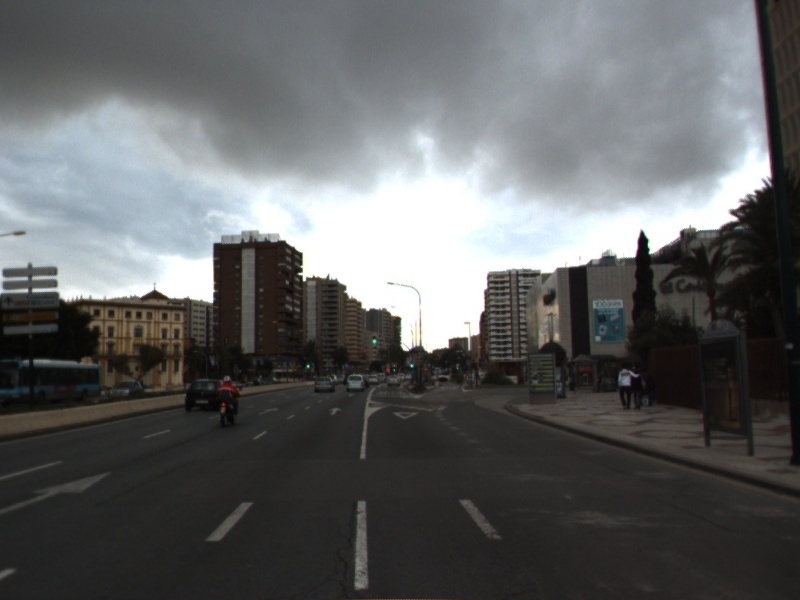STRAIGHT: (1, 466, 116, 514), (255, 405, 281, 417), (326, 406, 345, 417)
